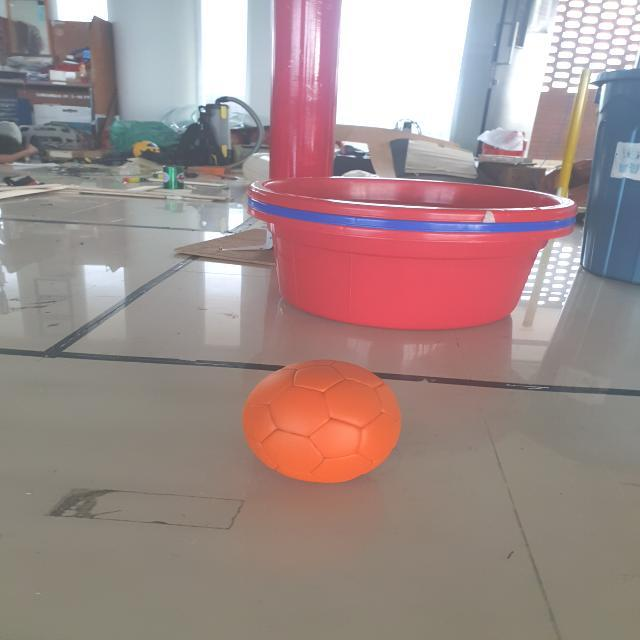bola: (240, 356, 403, 486)
